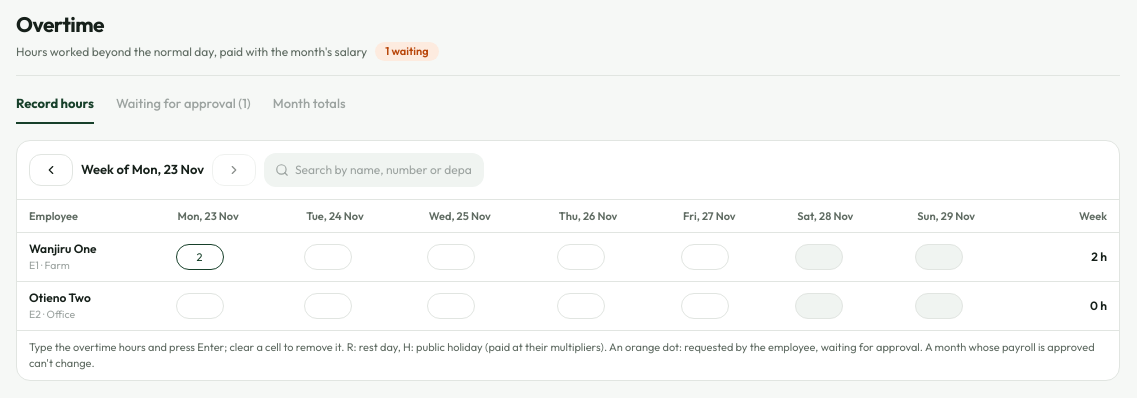
Test: Overtime page › a supervisor (no payroll module) records and approves but sees no amounts, settings or upload
Click the button "Month totals": (309,109) [273,94,346,124]
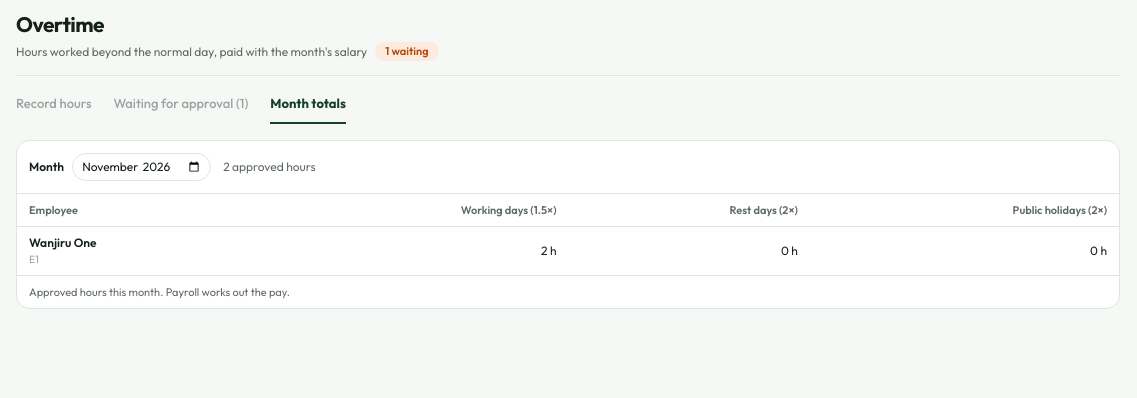
expect the text "Approved hours this month. Payroll works out the pay." is shown: met, box [17,274,1119,308]
